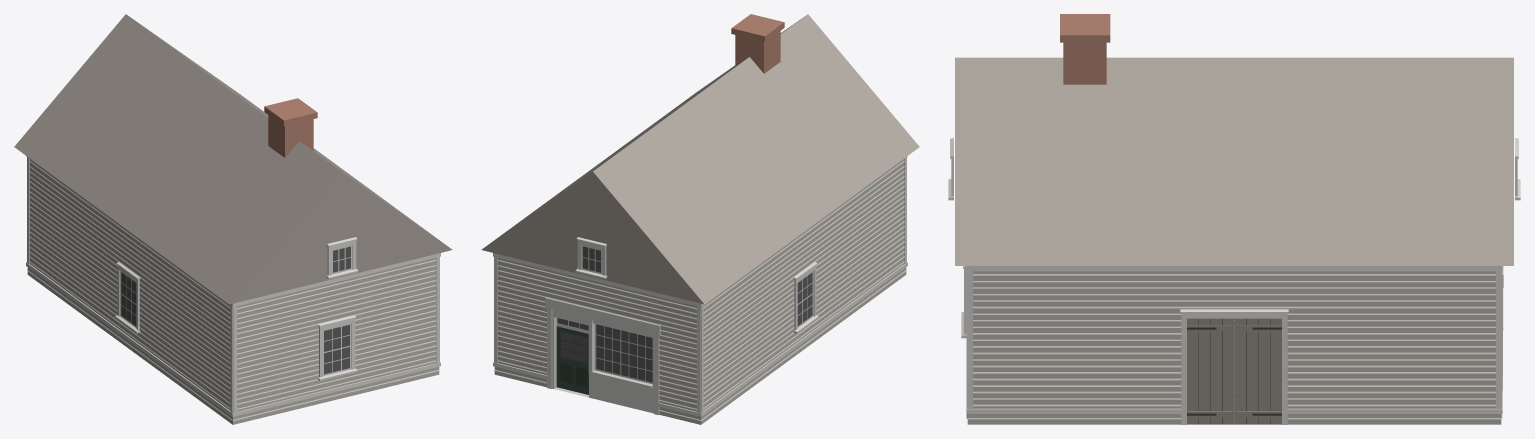
The model's file is recon_1835_core_c2_046__inferred_1835.glb.
3 views of the same model, side by side, from view 1: azimuth 30°, elevation 25°; view 2: azimuth 150°, elevation 25°; view 3: azimuth 270°, elevation 25° (orthographic). The views are drawn at different scales.
Parts seen in each view (by area): view 1: recon_1835_core_c2_046__inferred_1835; view 2: recon_1835_core_c2_046__inferred_1835; view 3: recon_1835_core_c2_046__inferred_1835.
Part boxes in pixels (x1,y1,x2,y2): recon_1835_core_c2_046__inferred_1835: (14, 14, 452, 424); recon_1835_core_c2_046__inferred_1835: (481, 14, 919, 424); recon_1835_core_c2_046__inferred_1835: (948, 14, 1520, 424).
Bounding box in the file's own units: 6.51 × 7.17 × 11.11.
